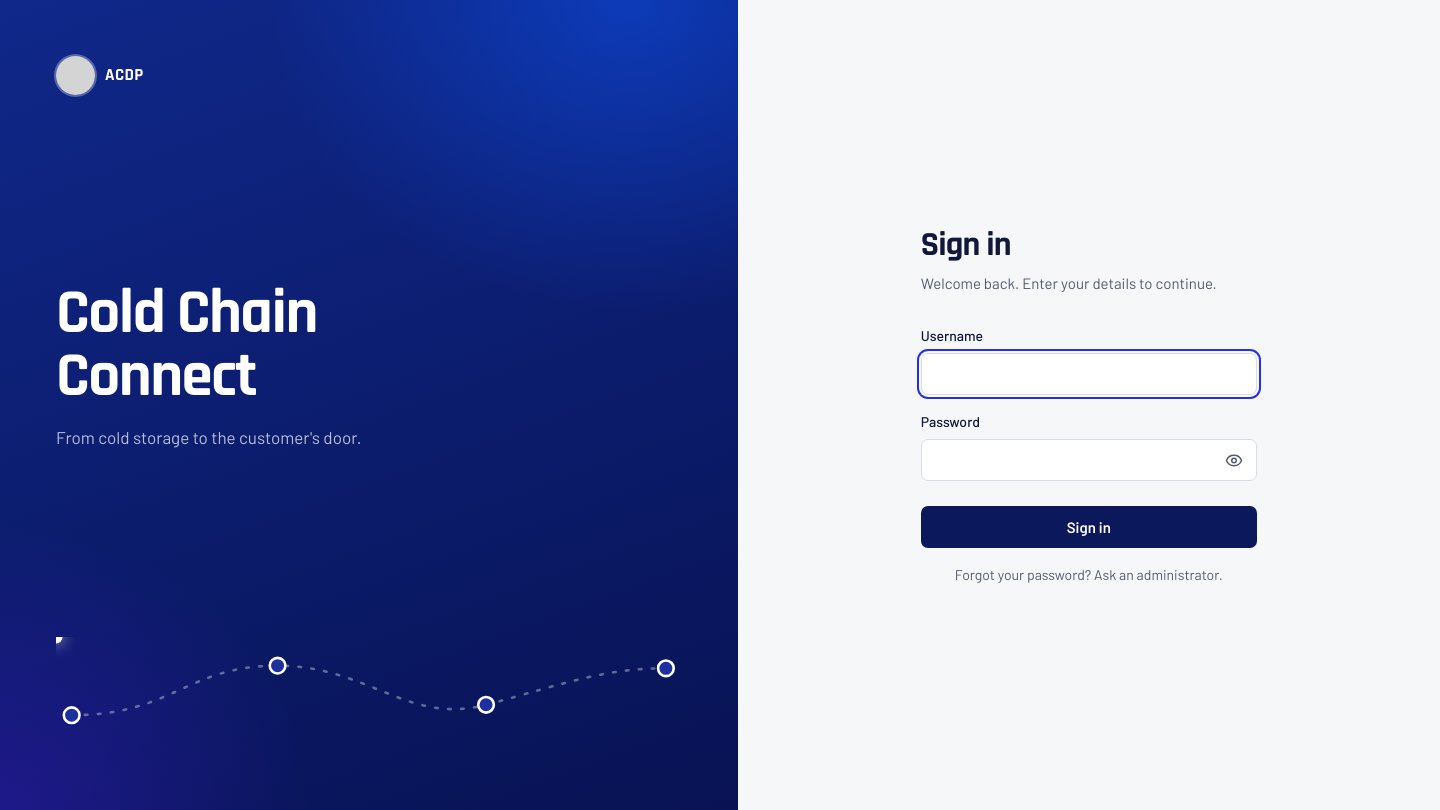
Test: sign-in feedback › shows the database lookup failure in the login form
The image size is (1440, 810).
Type "test-user" into the field labelled "Username".
click(1089, 374); type("test-user")  # box x1=921 y1=352 x2=1257 y2=394
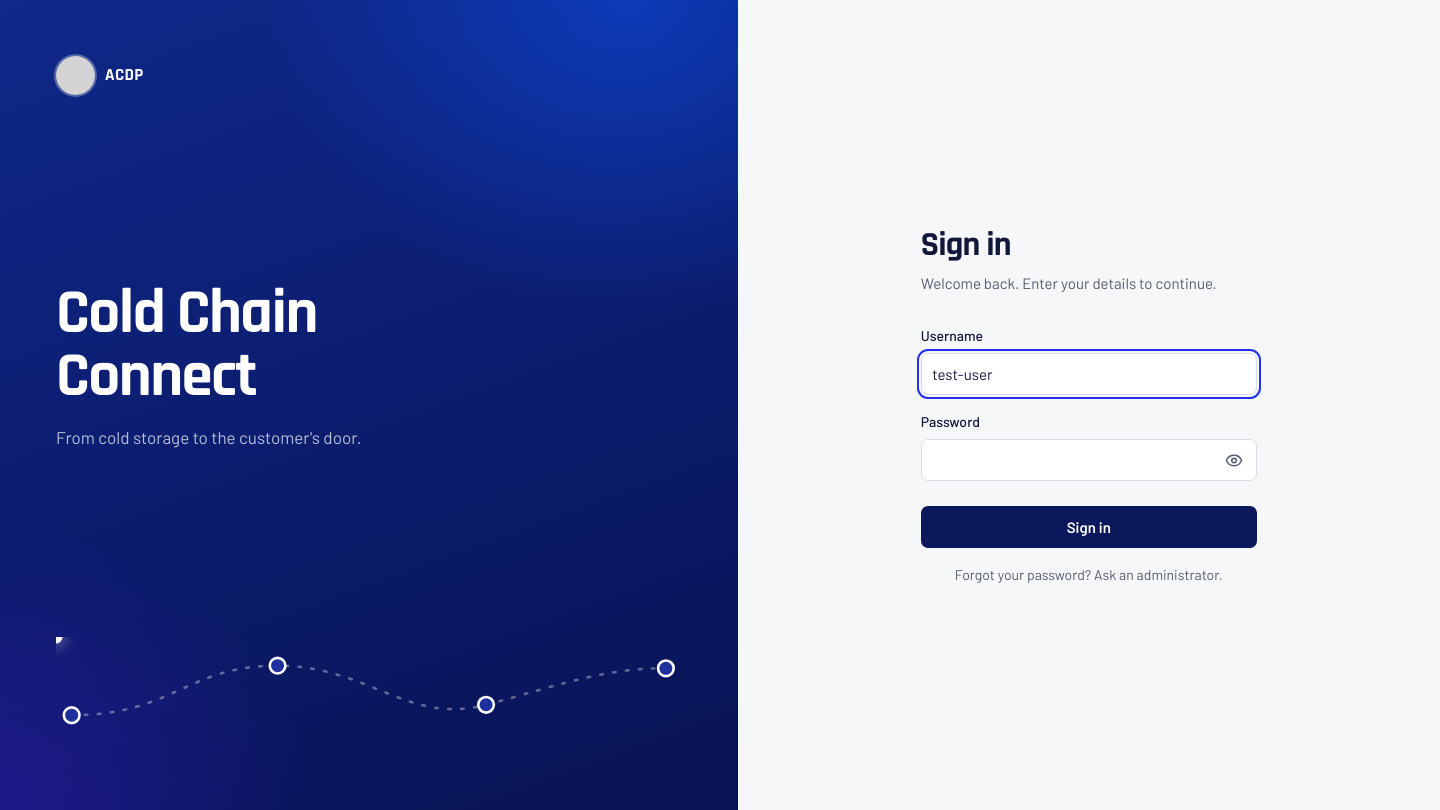
Type "test-password" into the password field labelled "Password".
click(1089, 460); type("test-password")  # box x1=921 y1=439 x2=1257 y2=481
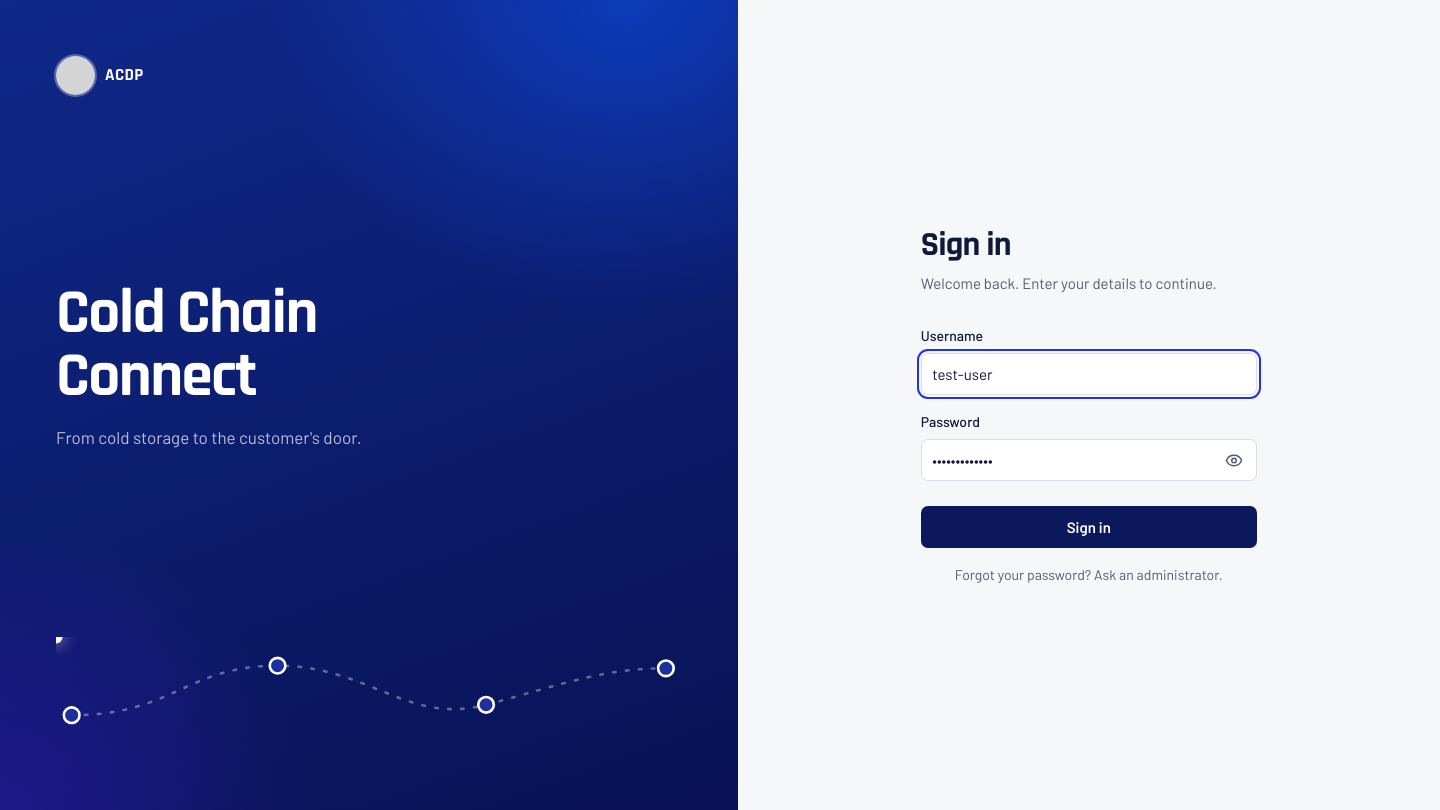
Click the button "Sign in".
click(1089, 526)  # box x1=921 y1=506 x2=1257 y2=548
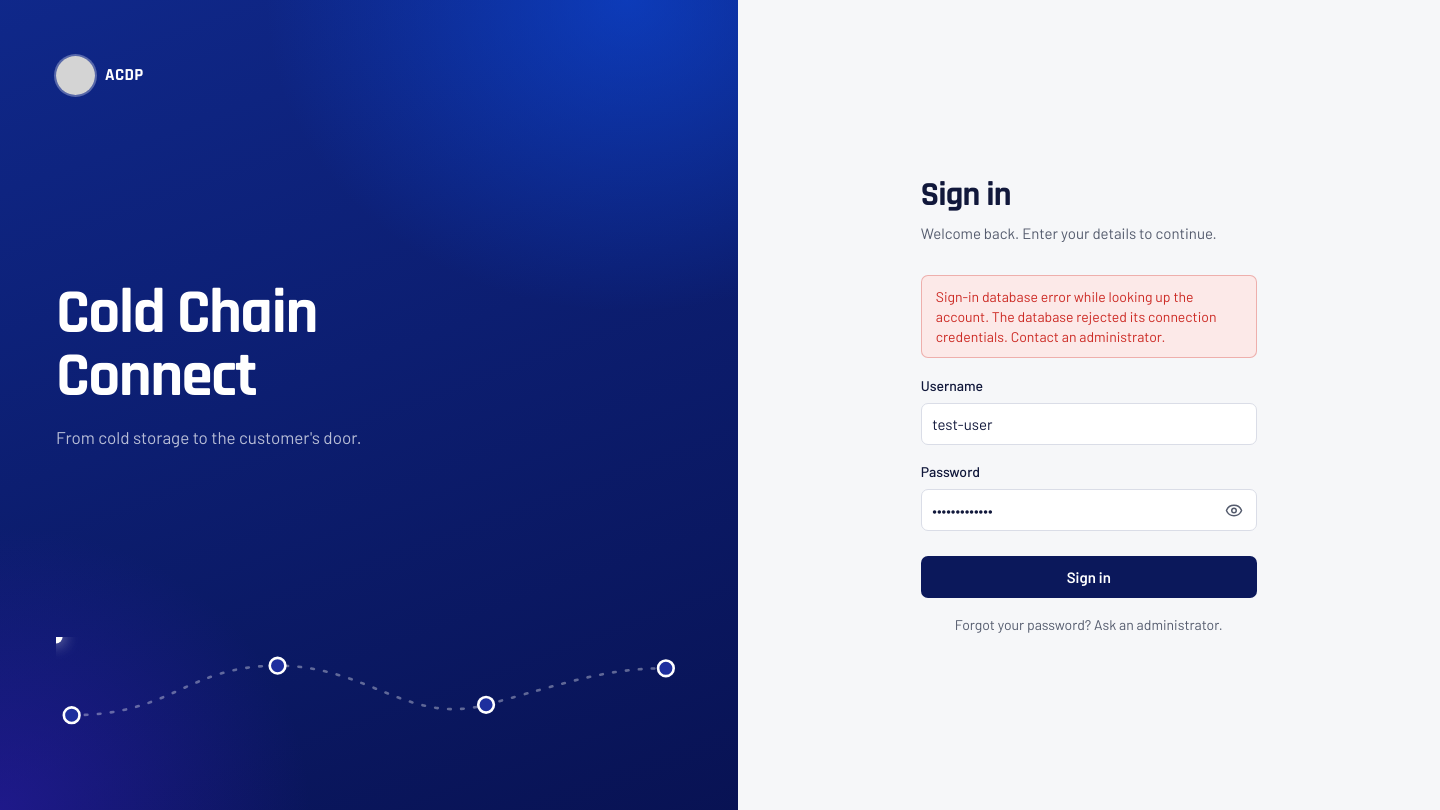
Result: the message shows "Sign-in database error while looking up the account. The database rejected its connection credentials. Contact an administrator." at x1=936 y1=288 x2=1216 y2=345
